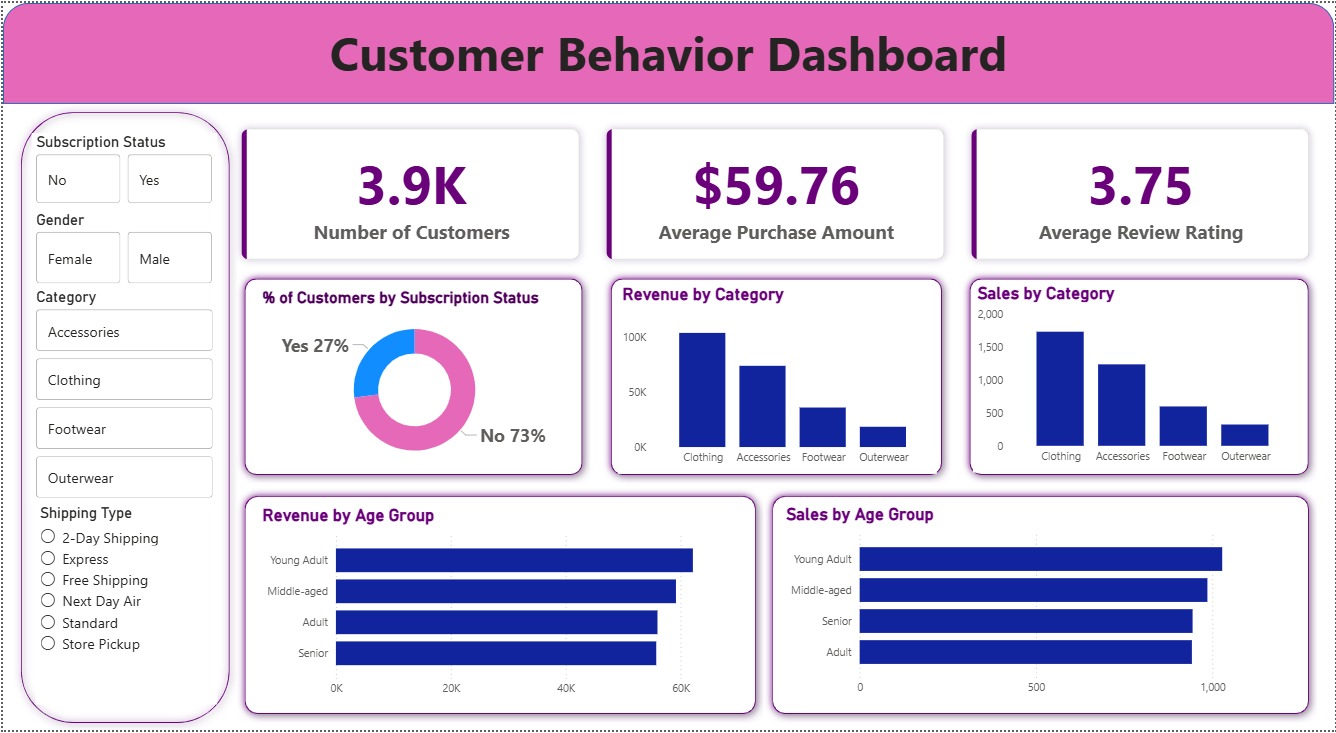

Layout of this report page (visuals, bound fields, positions):
{"tool":"powerbi","page":{"name":"Page 1","canvas":[1500,820],"ordinal":0},"visuals":[{"type":"cardVisual","fields":{"Data":["public customer.Number of Customers","public customer.Average Purchase Amount","public customer.Average Review Rating"]},"box":[240.9,113.6,1259.1,203],"z":0},{"type":"shape","box":[0,0,1500,113.6],"z":1000},{"type":"textbox","box":[0,13.6,1500,90.9],"z":2000},{"type":"shape","box":[263.6,301.5,398.5,239.4],"z":3000},{"type":"donutChart","title":"% of Customers by Subscription Status","fields":{"Category":["public customer.subscription_status"],"Y":["CountNonNull(public customer.customer_id)"]},"box":[287.9,321.2,353,209.1],"z":4000},{"type":"shape","box":[675.8,301.5,390.9,239.4],"z":5000},{"type":"shape","box":[1080.3,301.5,400,239.4],"z":6000},{"type":"clusteredColumnChart","title":"Revenue by Category","fields":{"Y":["Sum(public customer.purchase_amount)"],"Category":["public customer.category"]},"box":[692.4,316.7,359.1,213.6],"z":7000},{"type":"clusteredColumnChart","title":"Sales by Category","fields":{"Y":["CountNonNull(public customer.customer_id)"],"Category":["public customer.category"]},"box":[1092.4,315.2,368.2,213.6],"z":8000},{"type":"shape","box":[10.6,113.6,253,706.1],"z":9000},{"type":"advancedSlicerVisual","fields":{"Values":["public customer.subscription_status"]},"box":[31.8,147,209.1,84.8],"z":10000},{"type":"advancedSlicerVisual","fields":{"Values":["public customer.gender"]},"box":[31.8,233.3,209.1,87.9],"z":11000},{"type":"advancedSlicerVisual","fields":{"Values":["public customer.category"]},"box":[31.8,321.2,209.1,243.9],"z":12000},{"type":"listSlicer","fields":{"Values":["public customer.shipping_type"]},"box":[36.4,565.2,204.5,225.8],"z":13000},{"type":"shape","box":[263.6,547,593.9,263.6],"z":14500},{"type":"clusteredBarChart","title":"Revenue by Age Group","fields":{"Y":["Sum(public customer.purchase_amount)"],"Category":["public customer.age_group"]},"box":[287.9,566.7,556.1,224.2],"z":14750},{"type":"shape","box":[857.6,547,622.7,263.6],"z":15000},{"type":"clusteredBarChart","title":"Sales by Age Group","fields":{"Y":["CountNonNull(public customer.customer_id)"],"Category":["public customer.age_group"]},"box":[877.3,565.2,584.8,224.2],"z":17000}]}

Visuals, with their boxes in screenshot pixels (x1, y1, x2, y2), scaled from the page's 1500x820 canvas onto the 1336x733 screenshot:
cardVisual - public customer.Number of Customers x public customer.Average Purchase Amount: {"x1": 215, "y1": 102, "x2": 1335, "y2": 283}
shape: {"x1": 0, "y1": 0, "x2": 1335, "y2": 102}
textbox: {"x1": 0, "y1": 12, "x2": 1335, "y2": 93}
shape: {"x1": 235, "y1": 270, "x2": 590, "y2": 484}
"% of Customers by Subscription Status" donutChart: {"x1": 256, "y1": 287, "x2": 571, "y2": 474}
shape: {"x1": 602, "y1": 270, "x2": 950, "y2": 484}
shape: {"x1": 962, "y1": 270, "x2": 1318, "y2": 484}
"Revenue by Category" clusteredColumnChart: {"x1": 617, "y1": 283, "x2": 937, "y2": 474}
"Sales by Category" clusteredColumnChart: {"x1": 973, "y1": 282, "x2": 1301, "y2": 473}
shape: {"x1": 9, "y1": 102, "x2": 235, "y2": 732}
advancedSlicerVisual - public customer.subscription_status: {"x1": 28, "y1": 131, "x2": 215, "y2": 207}
advancedSlicerVisual - public customer.gender: {"x1": 28, "y1": 209, "x2": 215, "y2": 287}
advancedSlicerVisual - public customer.category: {"x1": 28, "y1": 287, "x2": 215, "y2": 505}
listSlicer - public customer.shipping_type: {"x1": 32, "y1": 505, "x2": 215, "y2": 707}
shape: {"x1": 235, "y1": 489, "x2": 764, "y2": 725}
"Revenue by Age Group" clusteredBarChart: {"x1": 256, "y1": 507, "x2": 752, "y2": 707}
shape: {"x1": 764, "y1": 489, "x2": 1318, "y2": 725}
"Sales by Age Group" clusteredBarChart: {"x1": 781, "y1": 505, "x2": 1302, "y2": 706}
